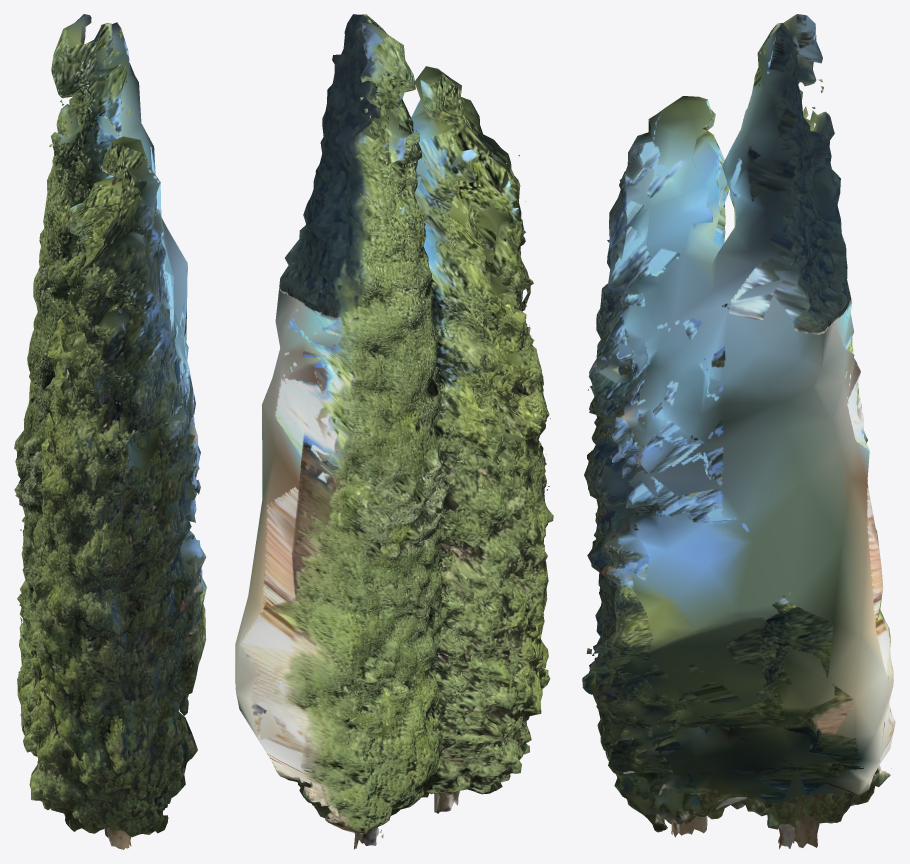
Rendered from medium.glb.
3 renders of one model, left to right at view 1: azimuth 30°, elevation 25°; view 2: azimuth 150°, elevation 25°; view 3: azimuth 270°, elevation 25°, orthographic. The views are drawn at different scales.
Parts seen in each view (by area): view 1: medium.019; view 2: medium.019; view 3: medium.019.
Part boxes in pixels (<box>): medium.019: <box>14,14,206,849</box>; medium.019: <box>235,14,553,849</box>; medium.019: <box>582,14,895,849</box>.
Size of the model in its own units: 4.8 by 17.15 by 5.86.
Materials: 1 (1 with a texture image).
